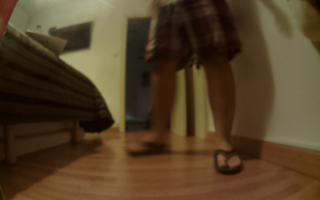person: (124, 1, 252, 179)
